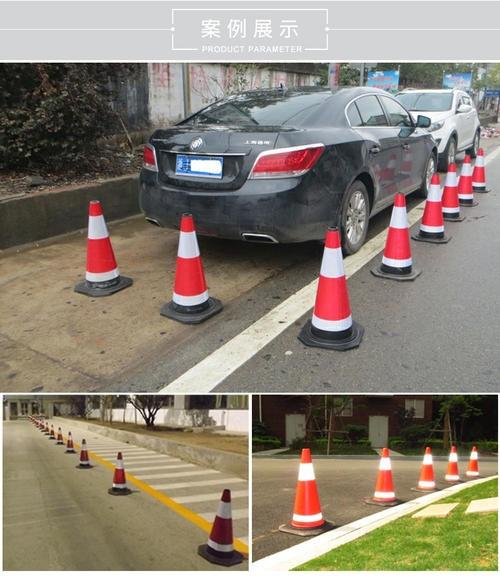cone_barrel: (298, 228, 365, 350), (160, 216, 220, 321), (71, 199, 129, 297), (279, 443, 331, 535), (372, 191, 419, 281), (197, 487, 241, 566), (416, 170, 446, 241), (366, 444, 399, 505), (440, 163, 461, 222), (413, 443, 438, 490), (106, 450, 131, 495), (456, 152, 473, 206), (470, 147, 488, 193), (442, 441, 462, 482), (462, 443, 481, 478), (76, 438, 91, 466), (65, 431, 74, 451)
